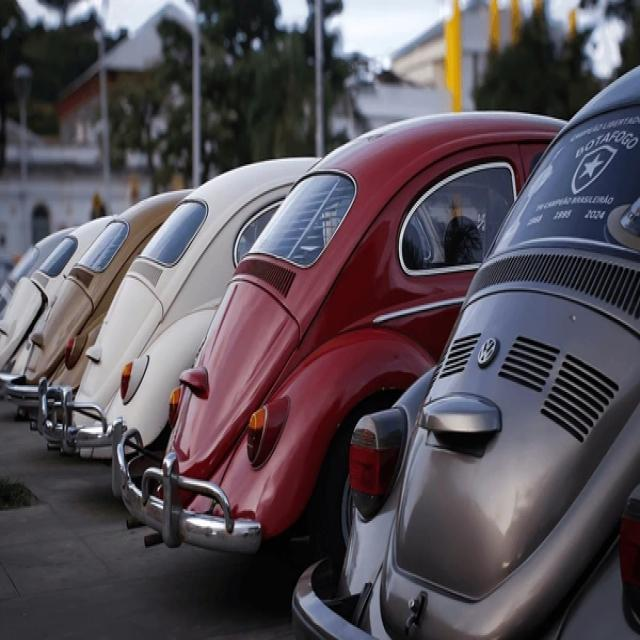wolksvogen: (476, 335, 501, 365)
